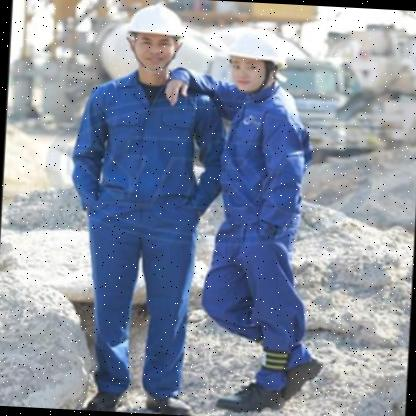bota: (274, 349, 324, 404), (216, 374, 284, 412), (84, 382, 129, 412), (145, 390, 194, 415)
capacete: (124, 2, 186, 72), (223, 26, 286, 92)
